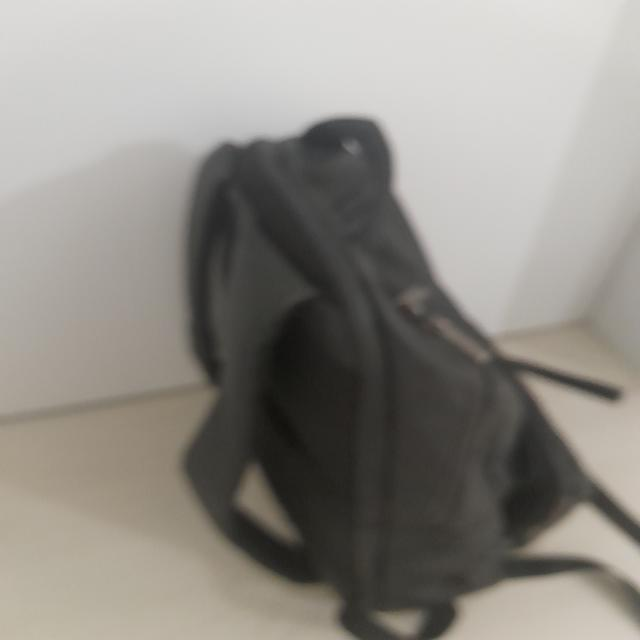backpack: (161, 118, 640, 640)
